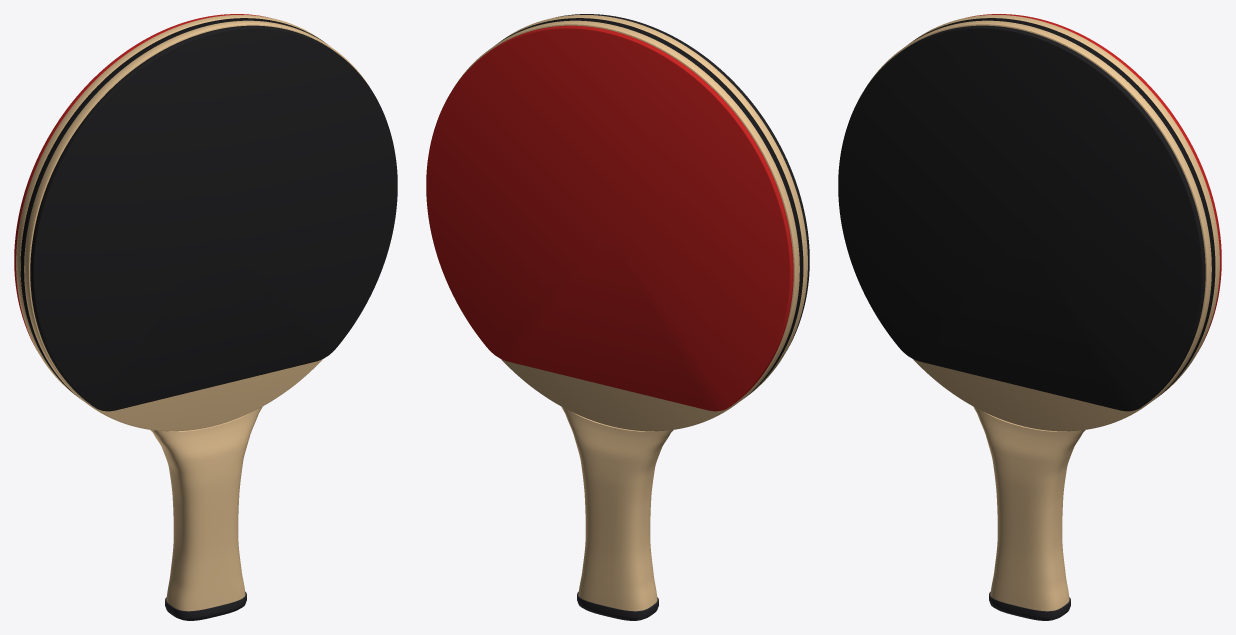
The model's file is NotPongPaddle_v4.fbx.
The picture shows the model from 3 angles, left to right: view 1: azimuth 30°, elevation 25°; view 2: azimuth 150°, elevation 25°; view 3: azimuth 330°, elevation 25°; orthographic projection.
Visible parts, largest first — view 1: NPP_BackRubber, NPP_Handle, NPP_WoodBlade, NPP_EdgeBand, NPP_FrontRubber, NPP_EndCap; view 2: NPP_FrontRubber, NPP_Handle, NPP_WoodBlade, NPP_EdgeBand, NPP_BackRubber, NPP_EndCap; view 3: NPP_BackRubber, NPP_Handle, NPP_WoodBlade, NPP_EdgeBand, NPP_FrontRubber, NPP_EndCap.
Boxes of the visible parts, bbox=[...] form: NPP_BackRubber: bbox=[30, 25, 397, 411]; NPP_Handle: bbox=[150, 406, 262, 611]; NPP_WoodBlade: bbox=[16, 15, 370, 431]; NPP_EdgeBand: bbox=[20, 18, 324, 398]; NPP_FrontRubber: bbox=[14, 14, 267, 349]; NPP_EndCap: bbox=[165, 592, 246, 620]; NPP_FrontRubber: bbox=[426, 25, 793, 411]; NPP_Handle: bbox=[561, 406, 673, 611]; NPP_WoodBlade: bbox=[453, 15, 807, 431]; NPP_EdgeBand: bbox=[499, 18, 803, 398]; NPP_BackRubber: bbox=[556, 14, 809, 349]; NPP_EndCap: bbox=[577, 592, 658, 620]; NPP_BackRubber: bbox=[838, 25, 1205, 411]; NPP_Handle: bbox=[973, 406, 1085, 611]; NPP_WoodBlade: bbox=[864, 15, 1219, 431]; NPP_EdgeBand: bbox=[909, 18, 1215, 398]; NPP_FrontRubber: bbox=[968, 14, 1221, 347]; NPP_EndCap: bbox=[989, 592, 1070, 620].
Size of the model in its own units: 416 by 632 by 49.68.
